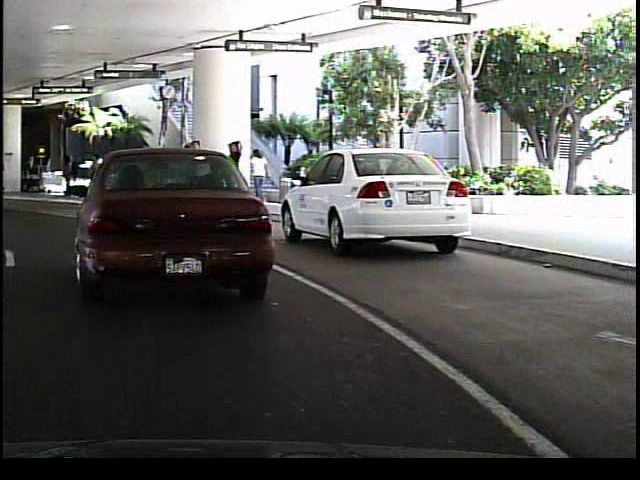person: (178, 134, 206, 207), (220, 135, 243, 213), (246, 145, 271, 206), (58, 149, 77, 202), (94, 156, 95, 196)
